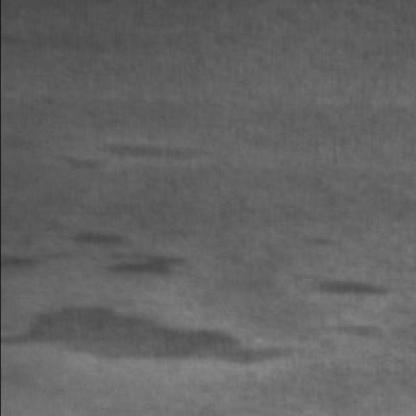inclusion: (0, 304, 295, 374), (0, 229, 185, 289), (302, 239, 391, 347), (52, 141, 208, 176)
